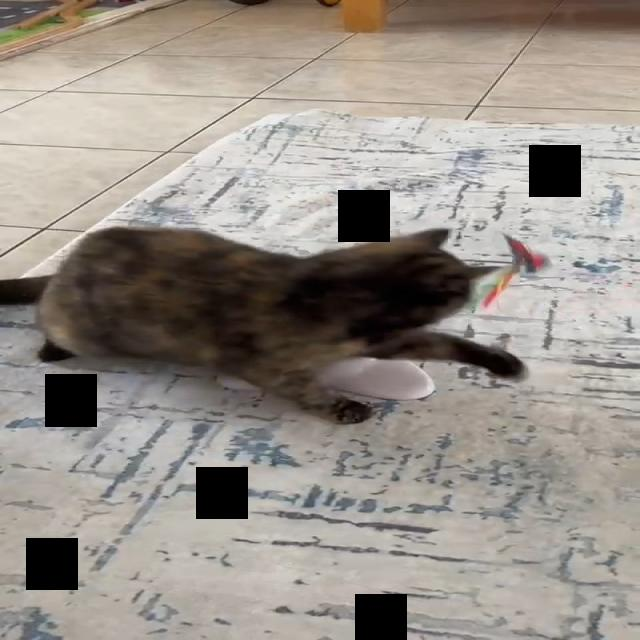authorized: (20, 224, 528, 425)
